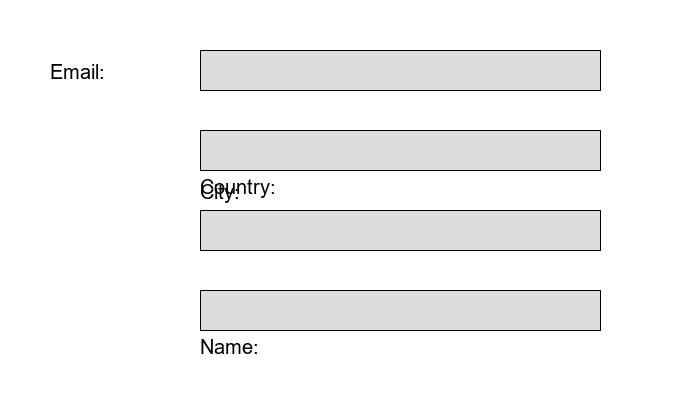Label: (200, 175, 270, 194), (200, 335, 253, 350), (50, 60, 99, 75), (200, 180, 234, 199)
Textbox: (200, 50, 600, 90), (200, 130, 600, 170), (200, 210, 600, 250), (200, 290, 600, 330)
